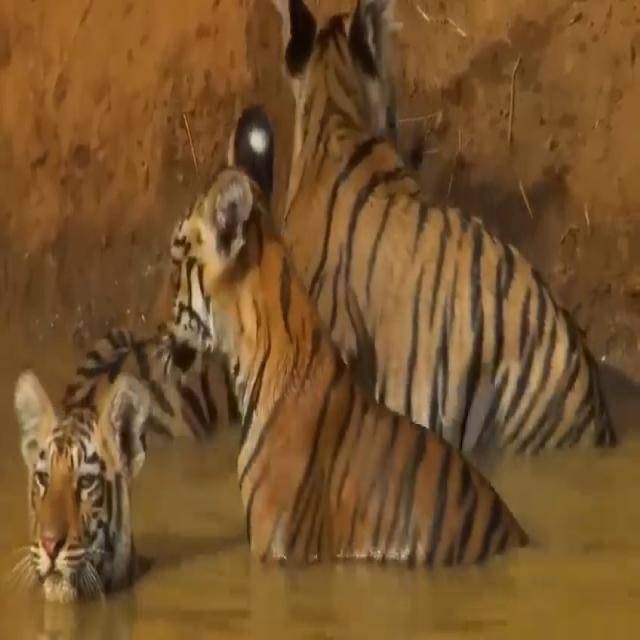tiger: (278, 0, 620, 444), (164, 172, 529, 563), (9, 365, 153, 607)
